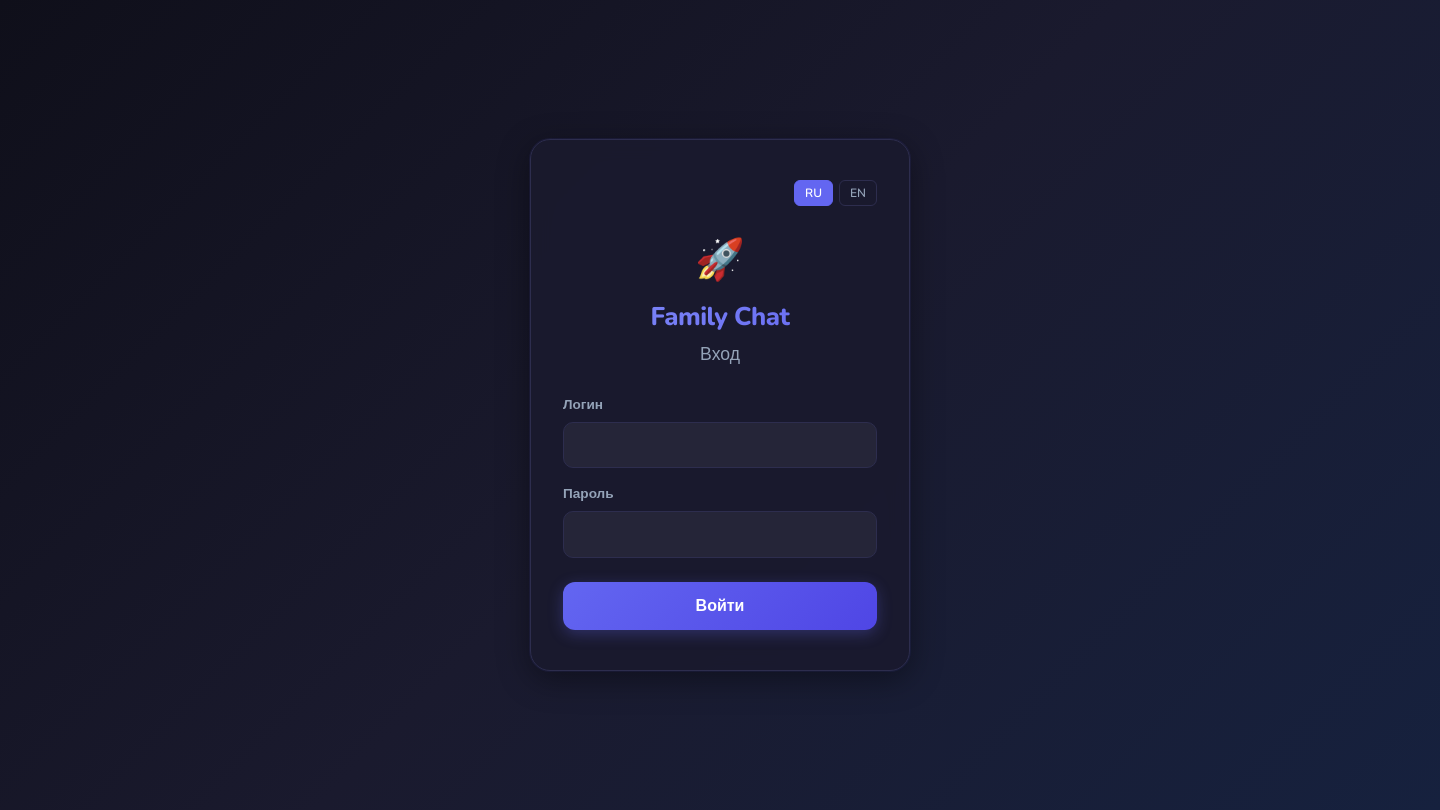
Test: Login errors › shows invalid_credentials message
Type "parent" into the field labelled "Логин".
click(720, 445); type("parent")  # box x1=563 y1=422 x2=877 y2=468
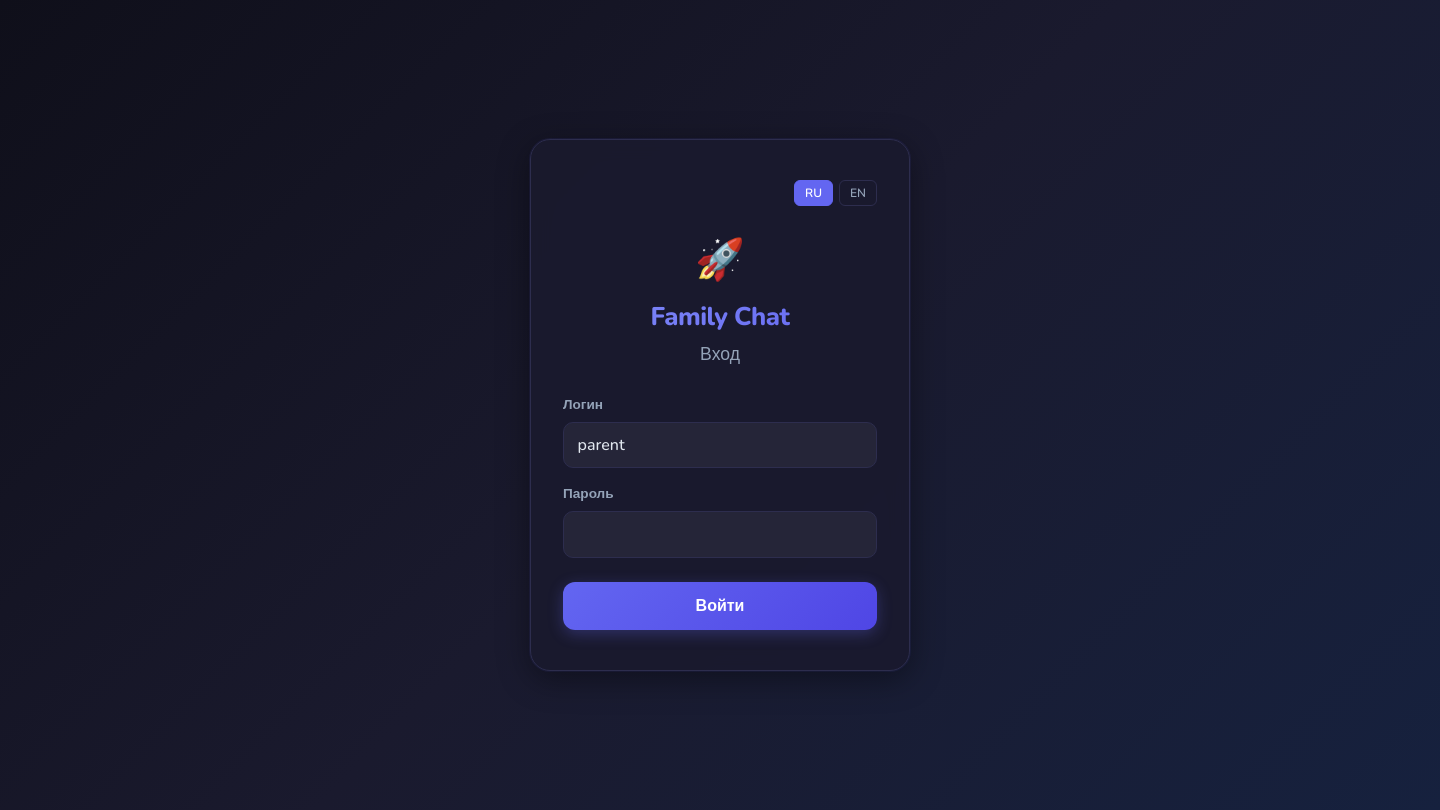
Type "wrong" into the password field labelled "Пароль".
click(720, 534); type("wrong")  # box x1=563 y1=511 x2=877 y2=558
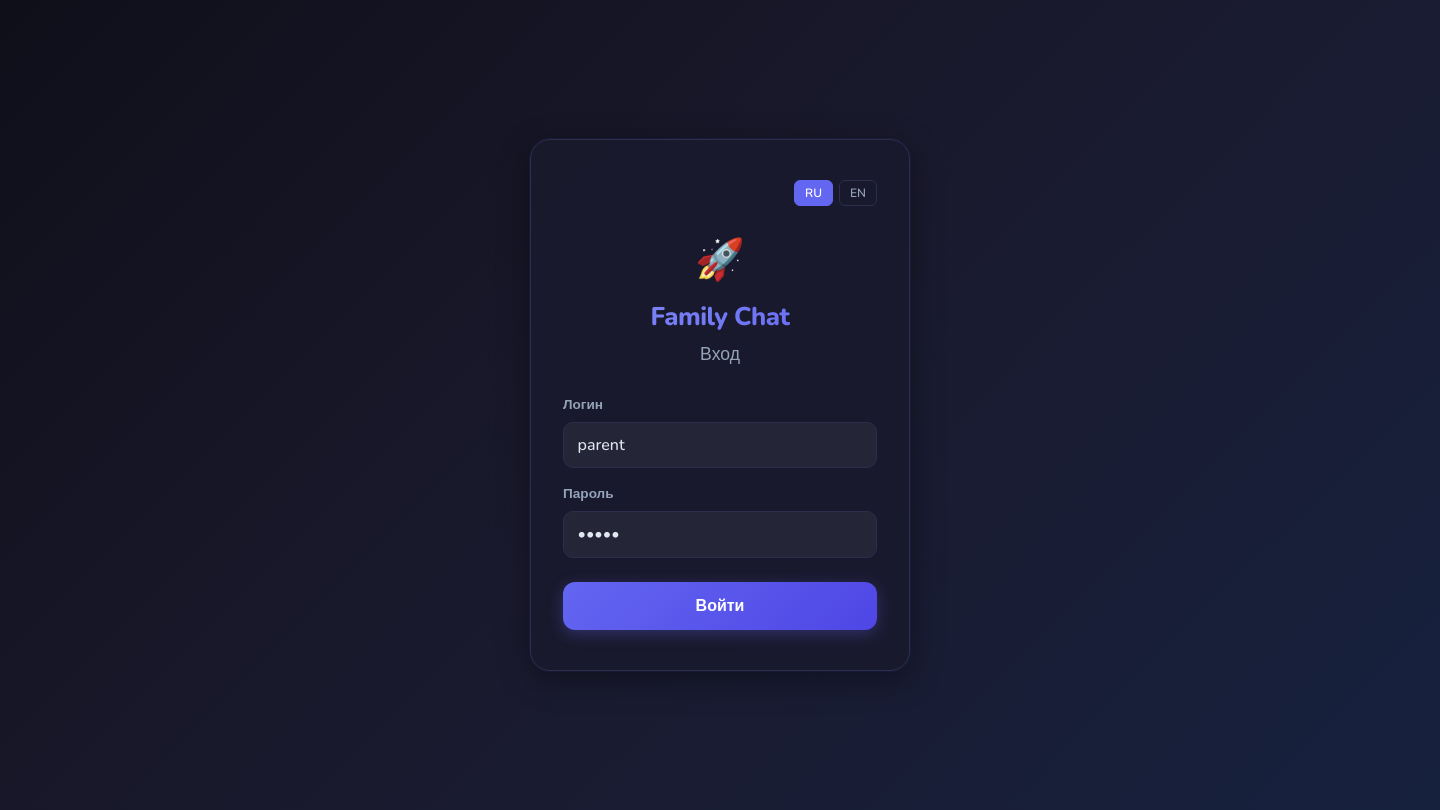
Click the button "Войти".
click(720, 606)  # box x1=563 y1=582 x2=877 y2=630
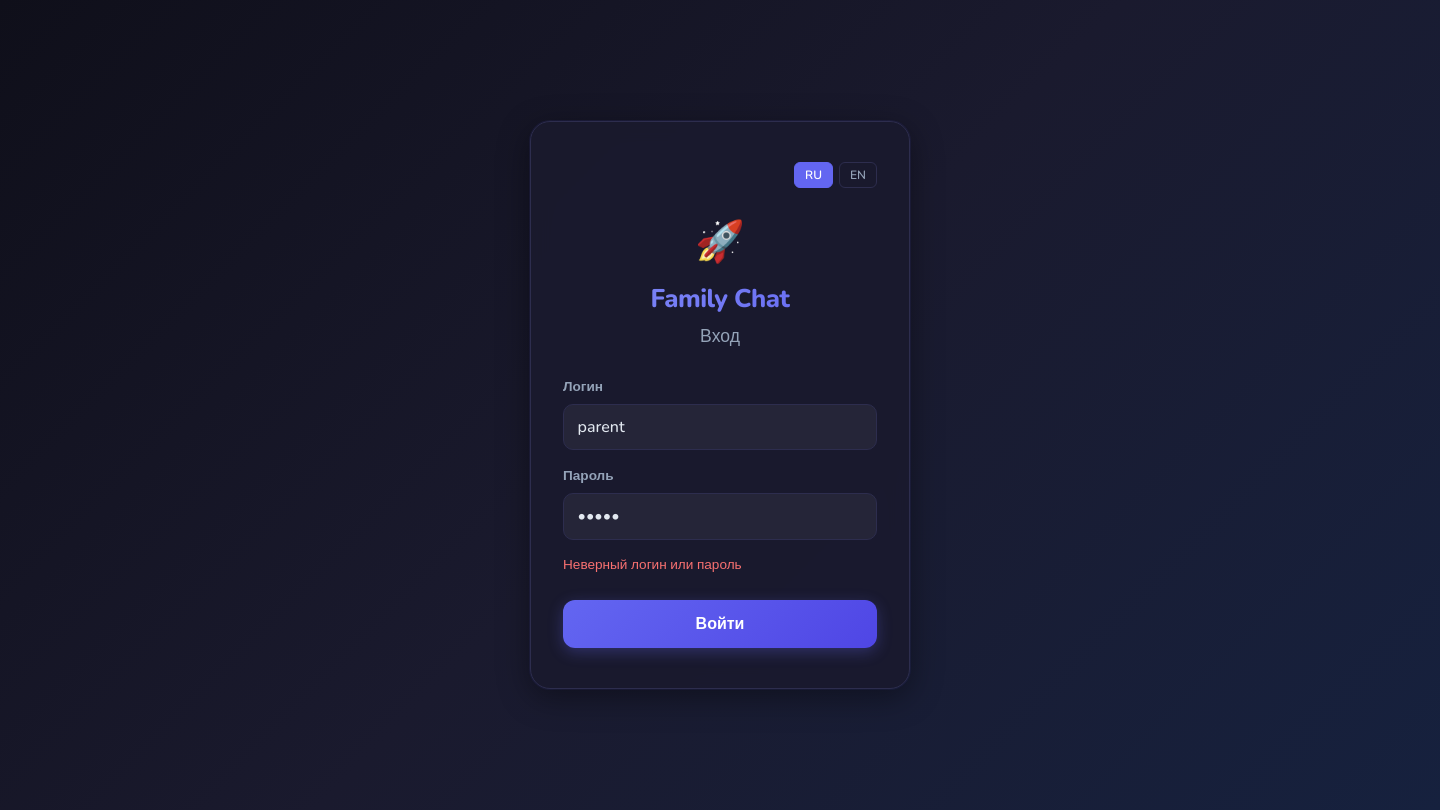
Check: the text "Неверный логин или пароль" is shown, box x1=563 y1=555 x2=742 y2=574
